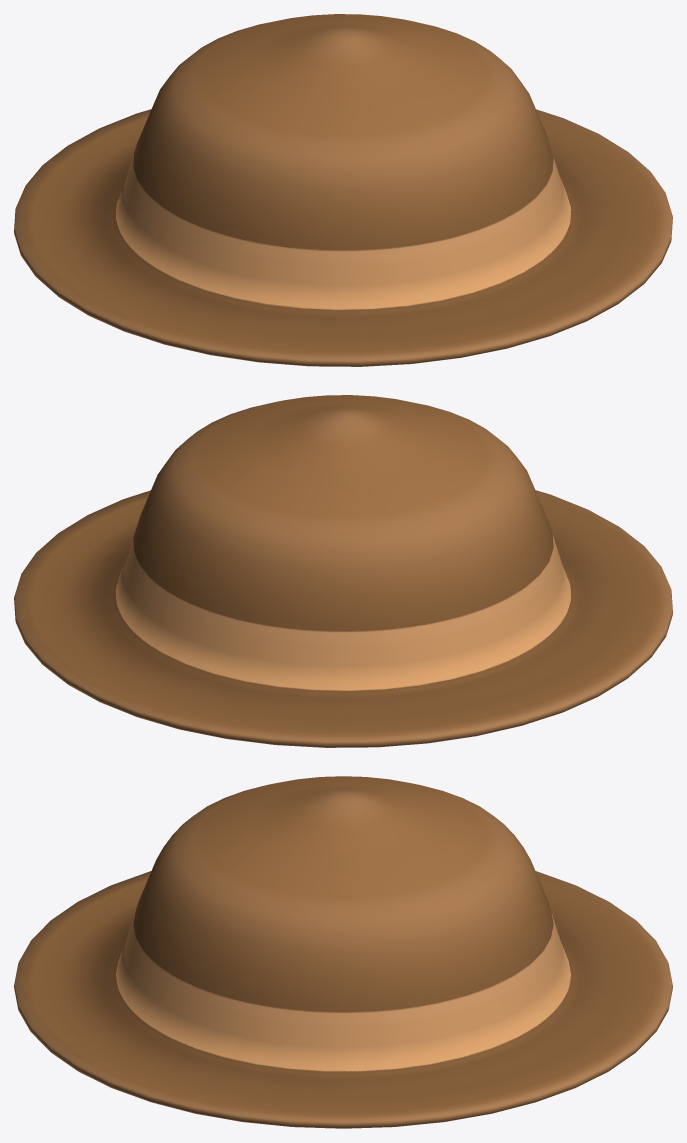
File: Cool hat.fbx
3 views of the same model, one above another, from view 1: azimuth 30°, elevation 25°; view 2: azimuth 150°, elevation 25°; view 3: azimuth 270°, elevation 25° (orthographic).
Parts seen in each view (by area): view 1: Cool hat; view 2: Cool hat; view 3: Cool hat.
Part boxes in pixels (left/top/right/bottom): Cool hat: left=14, top=14, right=672, bottom=366; Cool hat: left=14, top=395, right=672, bottom=747; Cool hat: left=14, top=776, right=672, bottom=1128.
Bounding box in the file's own units: 57.65 × 18.75 × 57.67.
